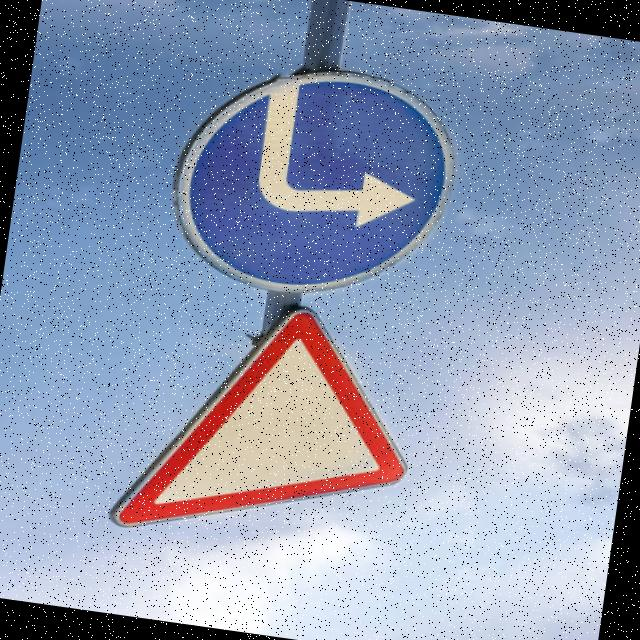give_way: (96, 271, 438, 584)
